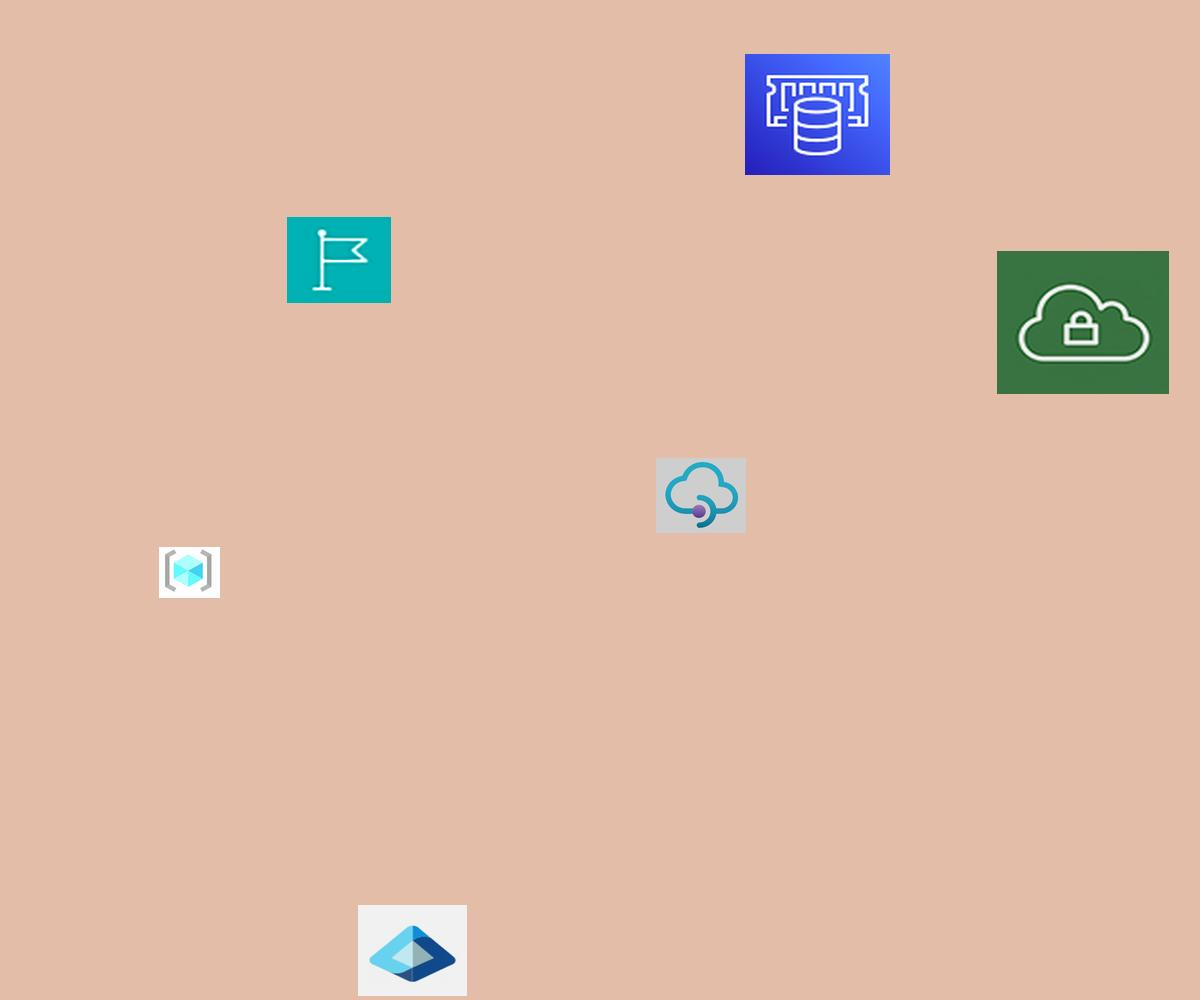AWS-ElastiCache: (745, 54, 890, 175)
AWS-Private_vpc: (997, 251, 1169, 394)
AWS-Region: (287, 217, 391, 303)
Azure_api_gateway: (656, 458, 746, 533)
Azure_microsoft_entra: (358, 905, 467, 996)
Azure_resource_group: (159, 547, 220, 598)
